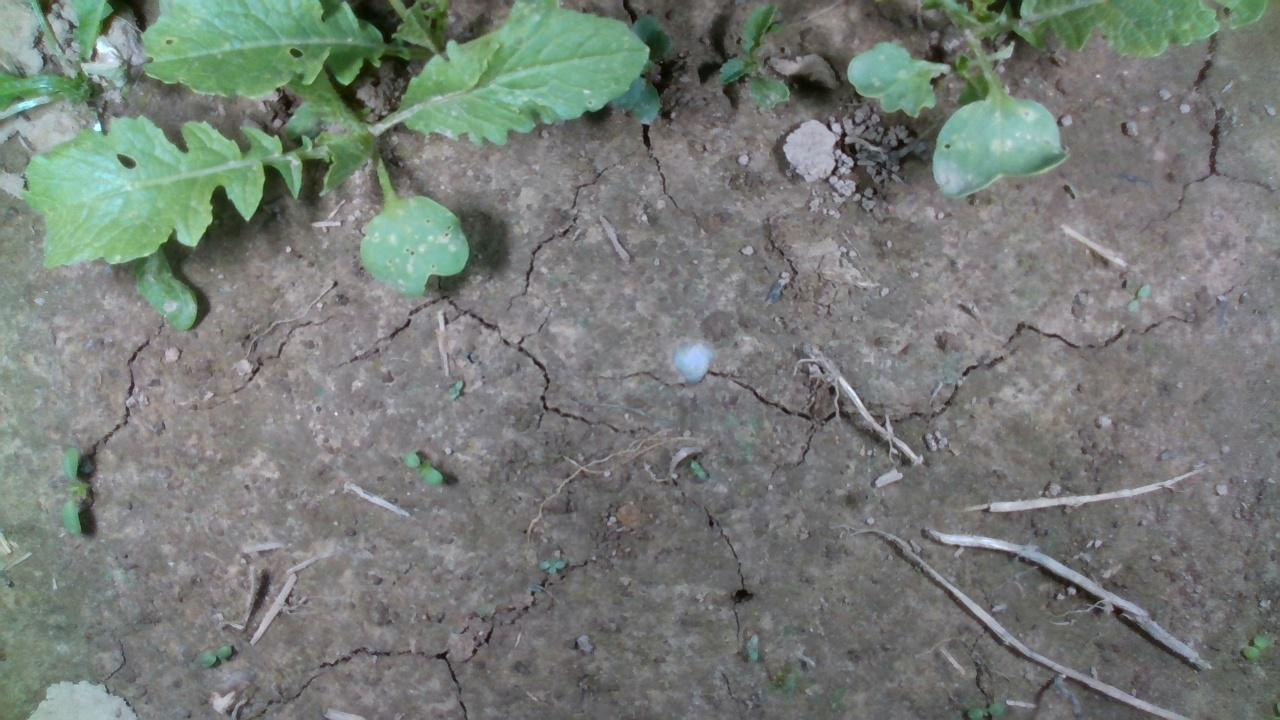weed: (402, 450, 445, 487)
